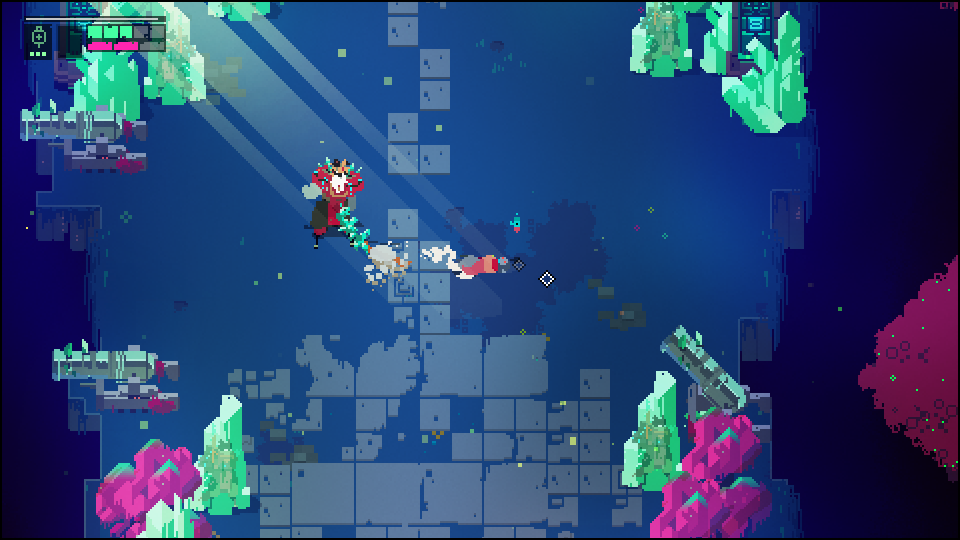hanged_man: (297, 154, 397, 258)
player: (452, 252, 511, 281)
